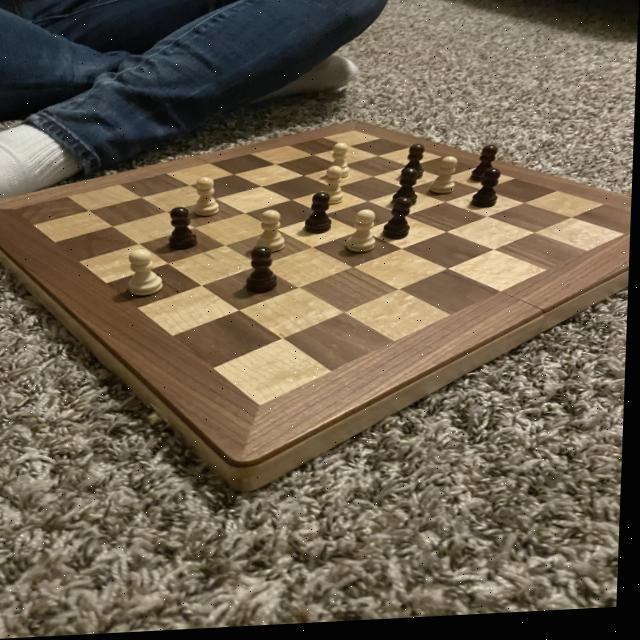black-knight: (242, 245, 284, 298), (166, 206, 206, 254), (381, 199, 417, 247), (467, 172, 505, 216), (303, 193, 338, 240), (469, 148, 504, 190), (391, 171, 423, 214), (400, 145, 431, 187)
white-knight: (125, 247, 169, 301), (344, 211, 381, 260), (253, 210, 290, 258), (192, 177, 226, 221), (430, 160, 461, 201), (321, 166, 348, 210), (330, 144, 357, 184)
